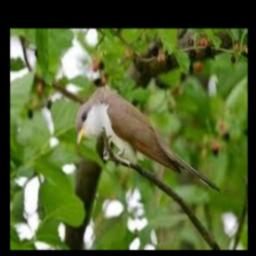Cuckoo: (77, 86, 221, 192)
